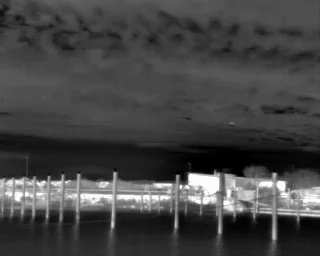BIRD: (126, 76, 135, 86)
